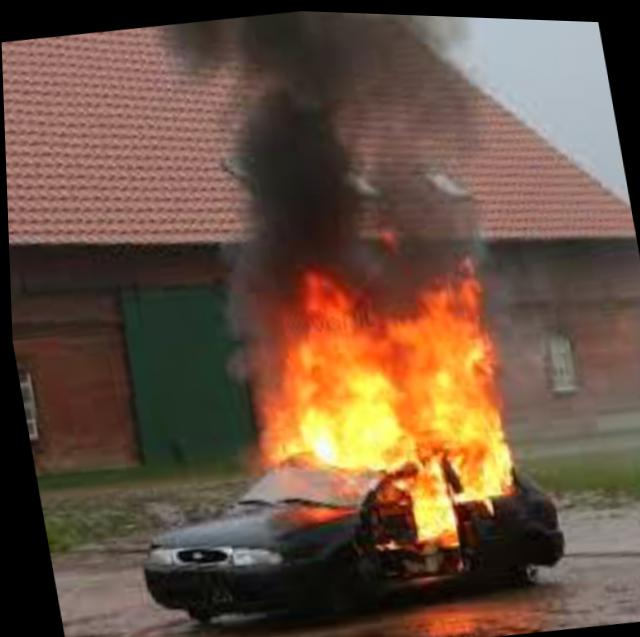fire: (221, 221, 554, 535)
